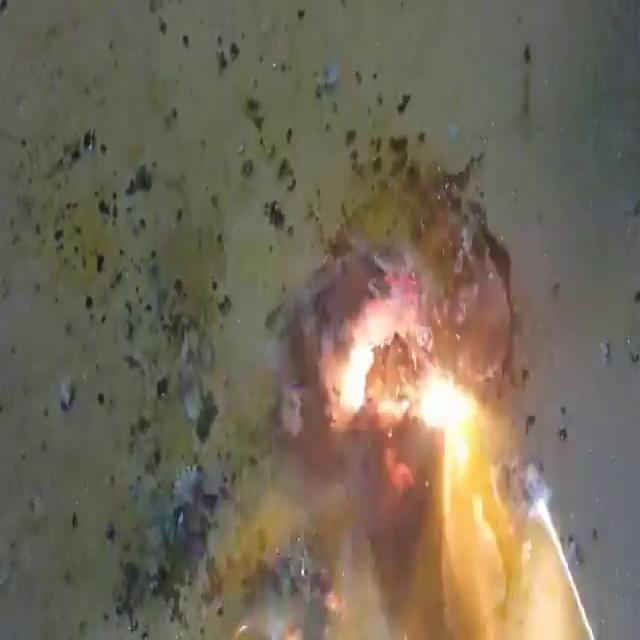Fire: (219, 109, 613, 640)
